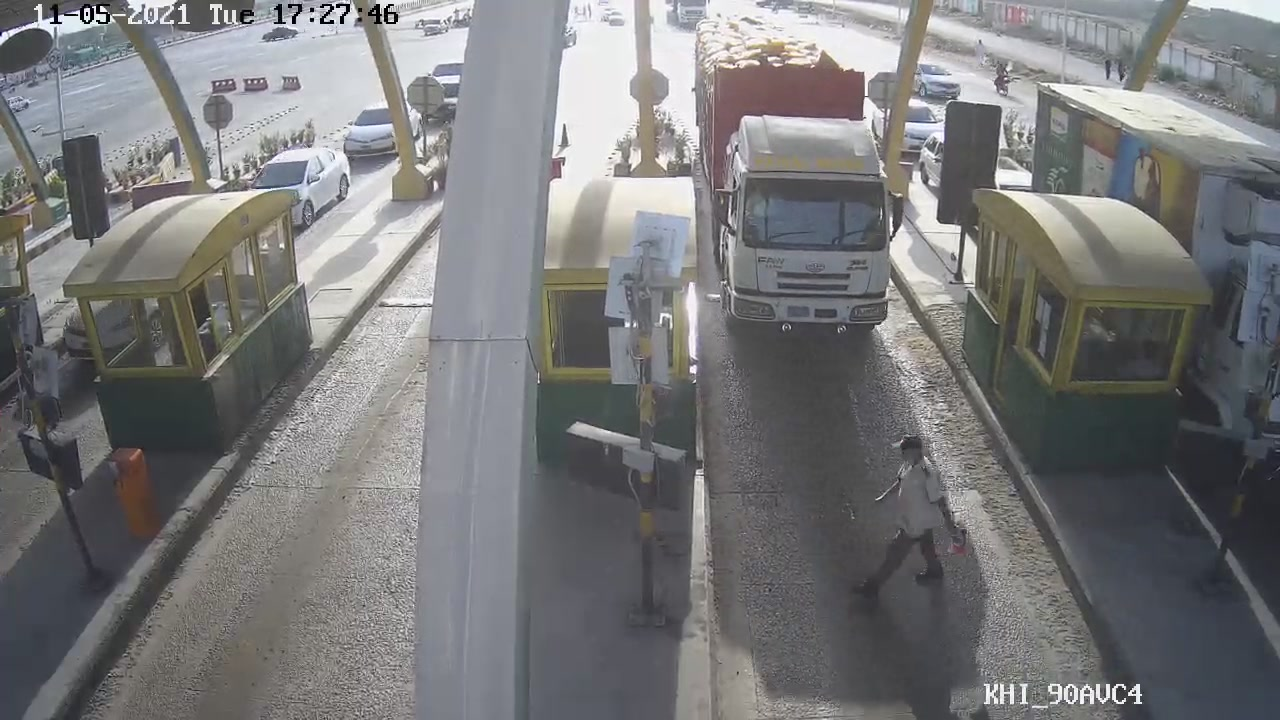F6: (679, 40, 921, 350)
